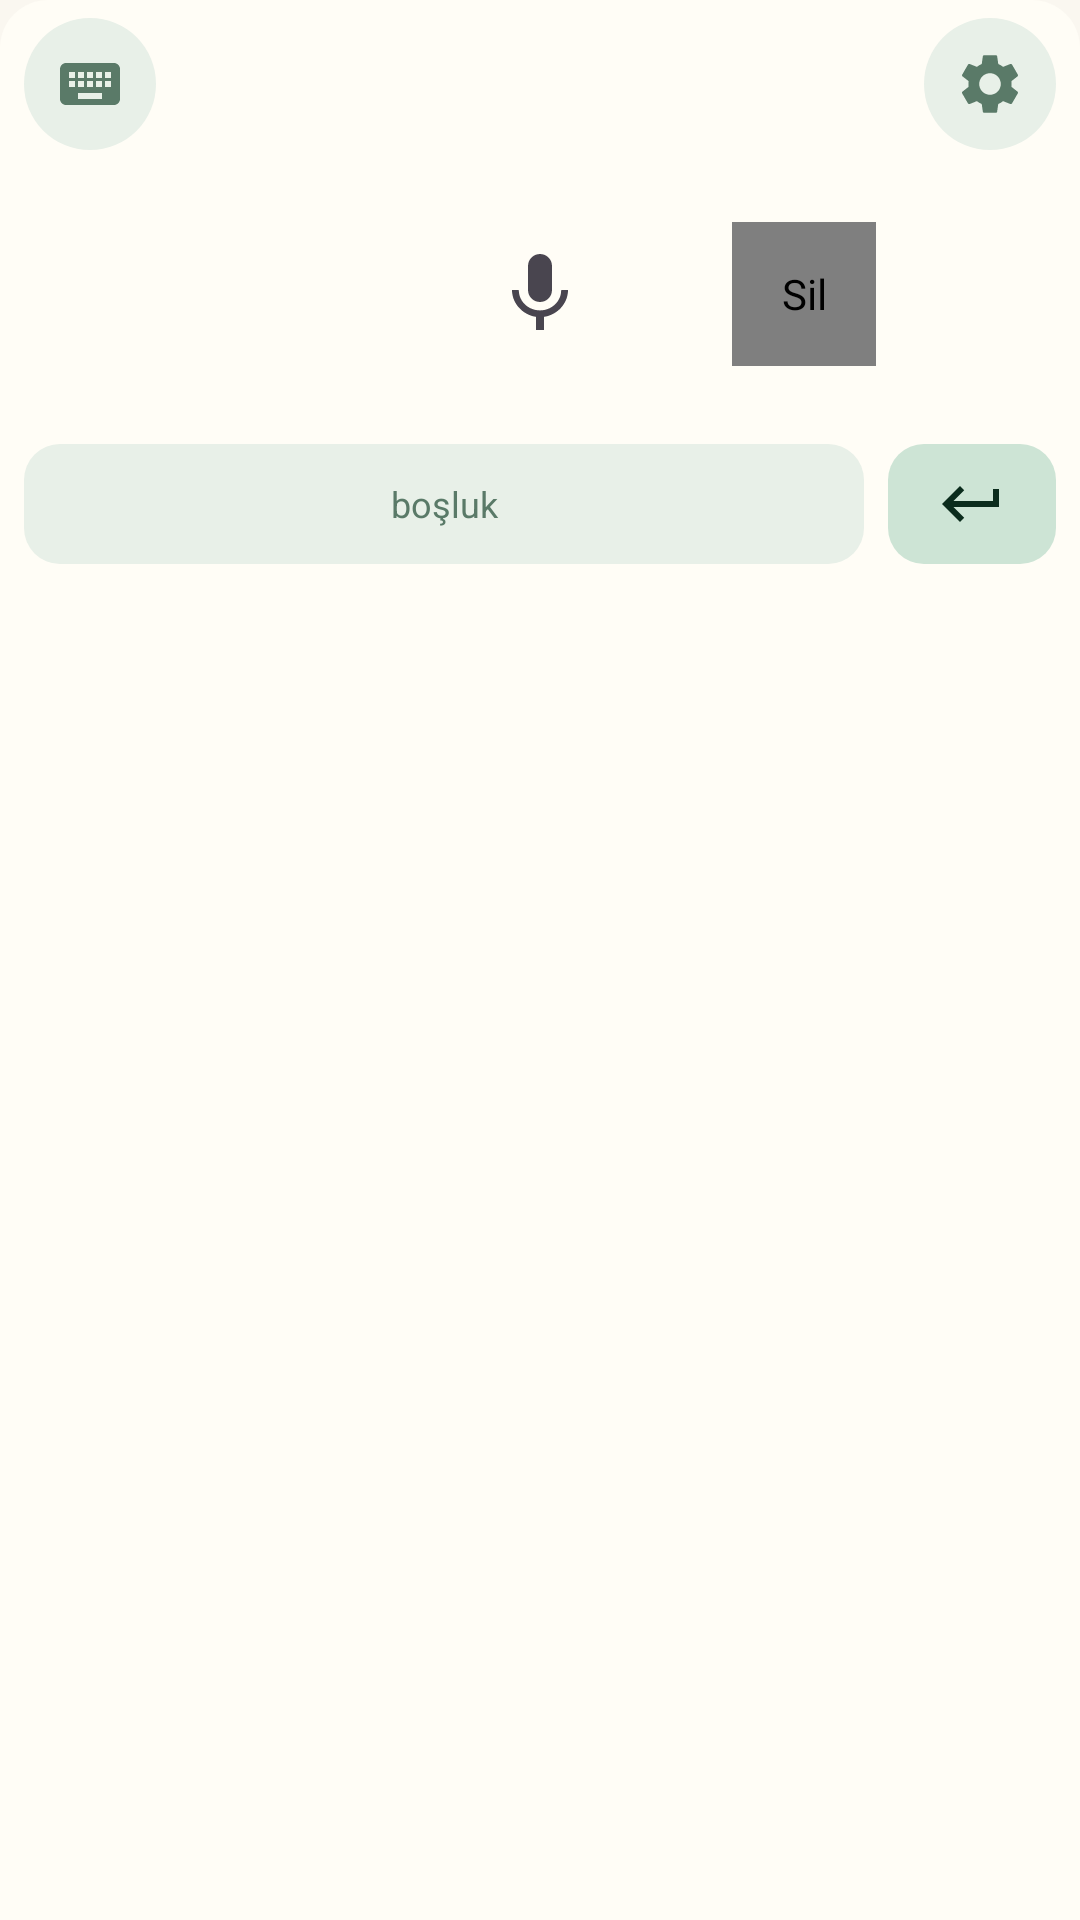

Where to tap for icons on this 1080px×1920px app screen, as [x,y]:
Ayarlar: [990,84]
Enter: [972,504]
mic: [540,292]
Önceki klavyeye geç: [90,84]
